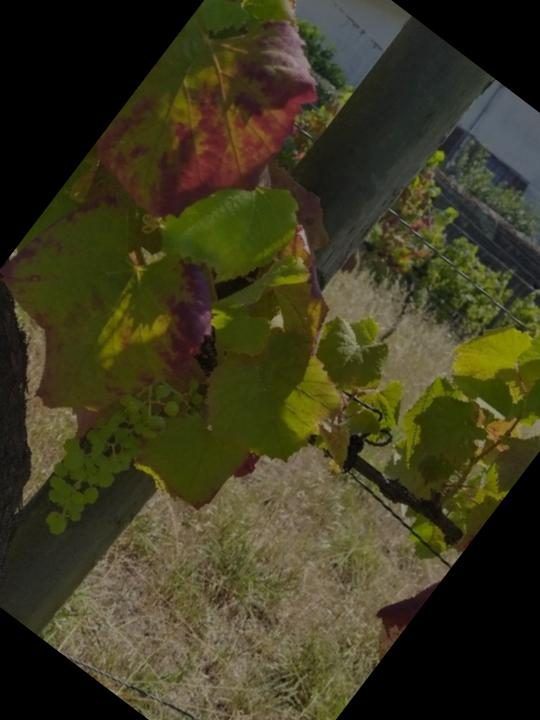grape: (13, 335, 209, 555)
